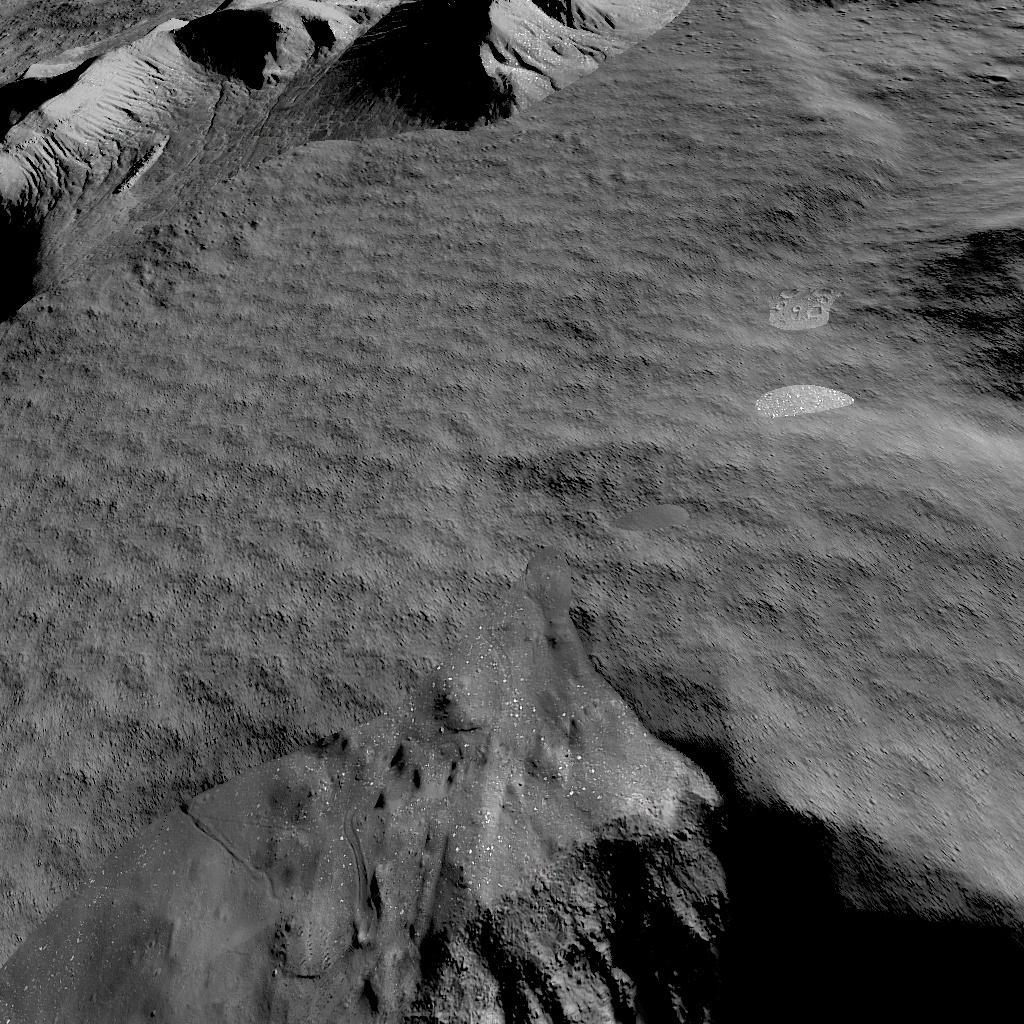Boulders: (0, 0, 690, 328)
Crater: (0, 562, 1024, 1024), (938, 220, 1024, 410)
Plan surface: (0, 340, 902, 550)
